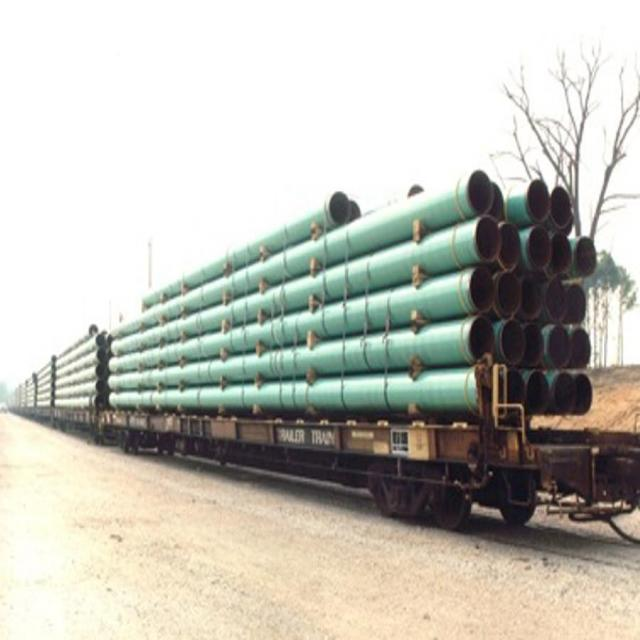cargo: (103, 162, 605, 408), (53, 322, 107, 408)
flatcar: (96, 407, 640, 548)
